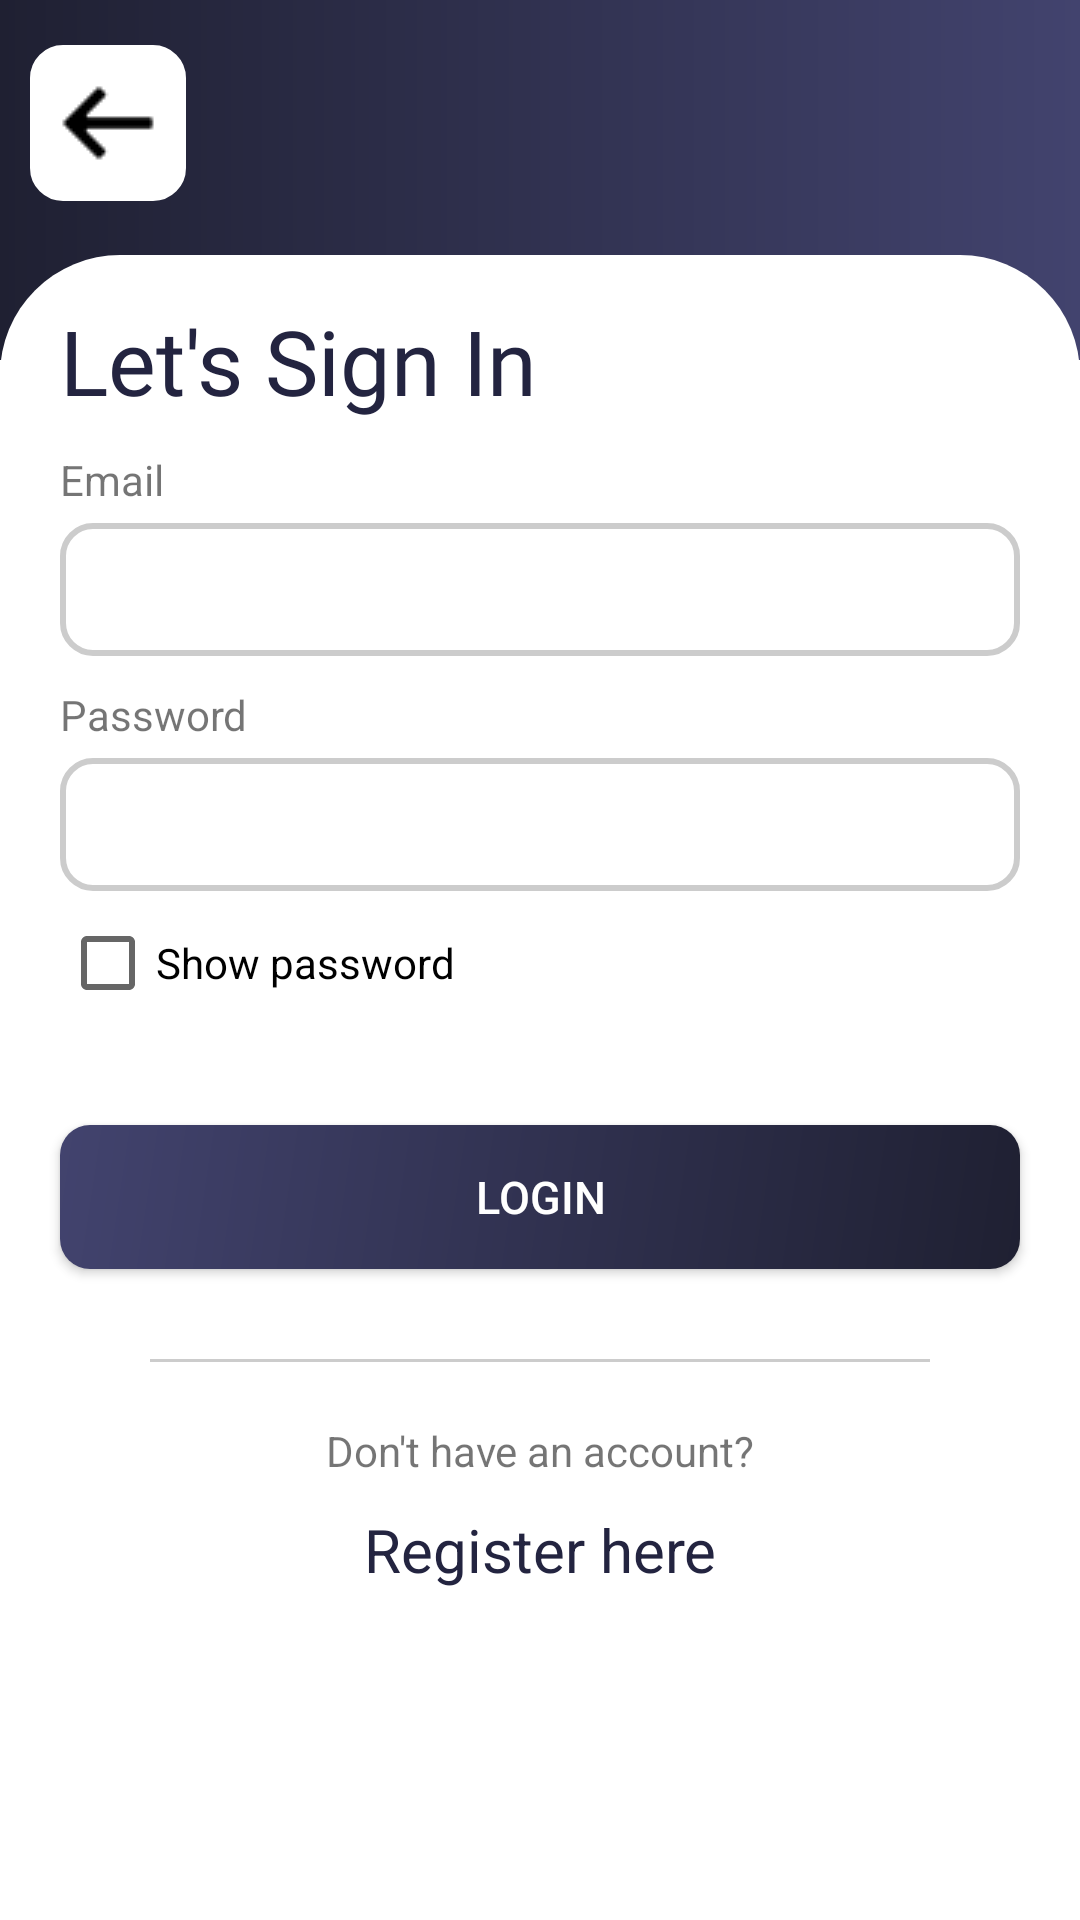

Named icons in this screenshot (1080 x 1920) and their centers, point (x, y):
back: point (108, 123)
